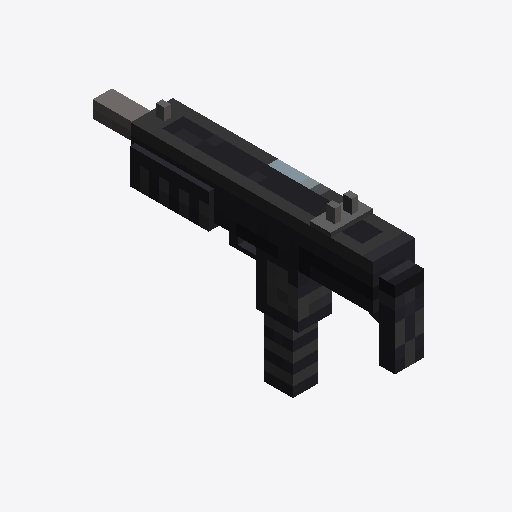
Isometric view (azimuth 45°, elevation 35.3°) of a Minecraft model made of 18 cuboids, textured from the same repository.
Parts seen in each view (by area): reciever, stock, handle, grip, magazine, west, sight_base.
Part boxes in pixels (x1,y1,x2,y2): reciever: (131, 98, 414, 313); stock: (379, 260, 423, 373); handle: (256, 247, 331, 332); grip: (130, 143, 218, 231); magazine: (264, 314, 317, 397); west: (93, 97, 135, 139); sight_base: (310, 200, 372, 237).
Bounding box in the file's own units: 2.5 × 8.75 × 14.6.